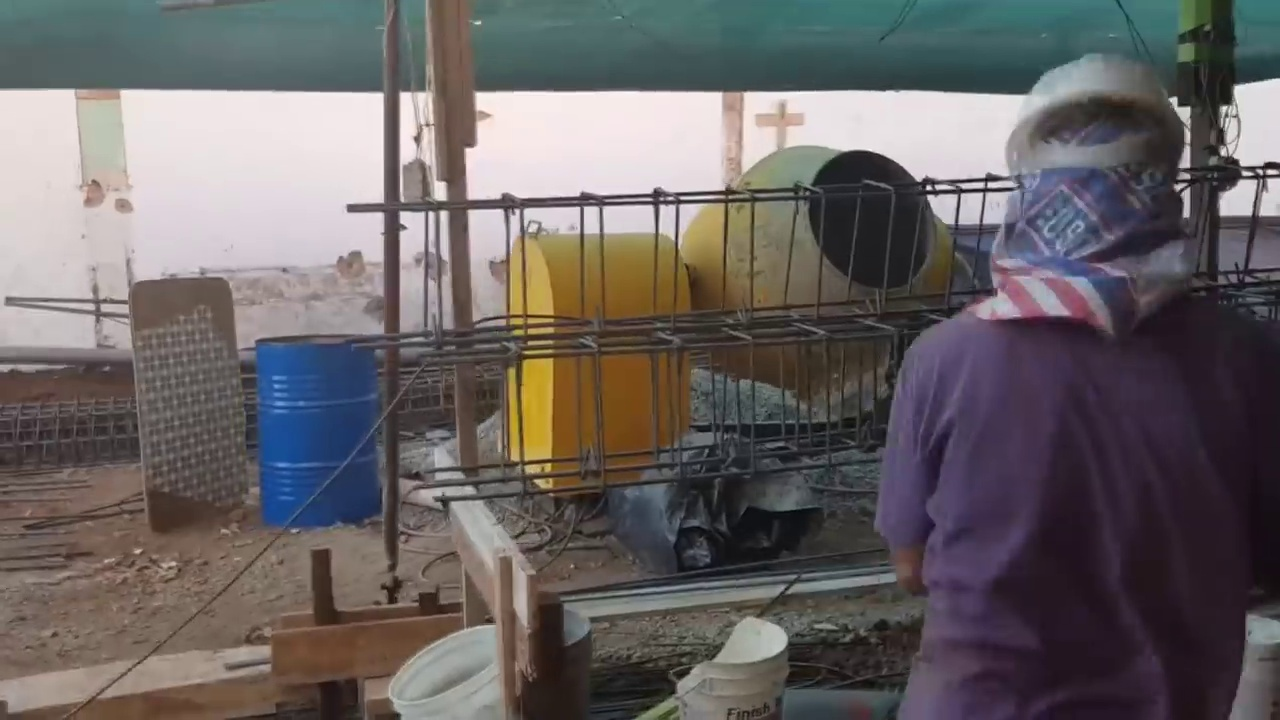helmet: (1002, 47, 1194, 186)
helmet-on: (999, 40, 1194, 329)
person: (872, 38, 1253, 713)
